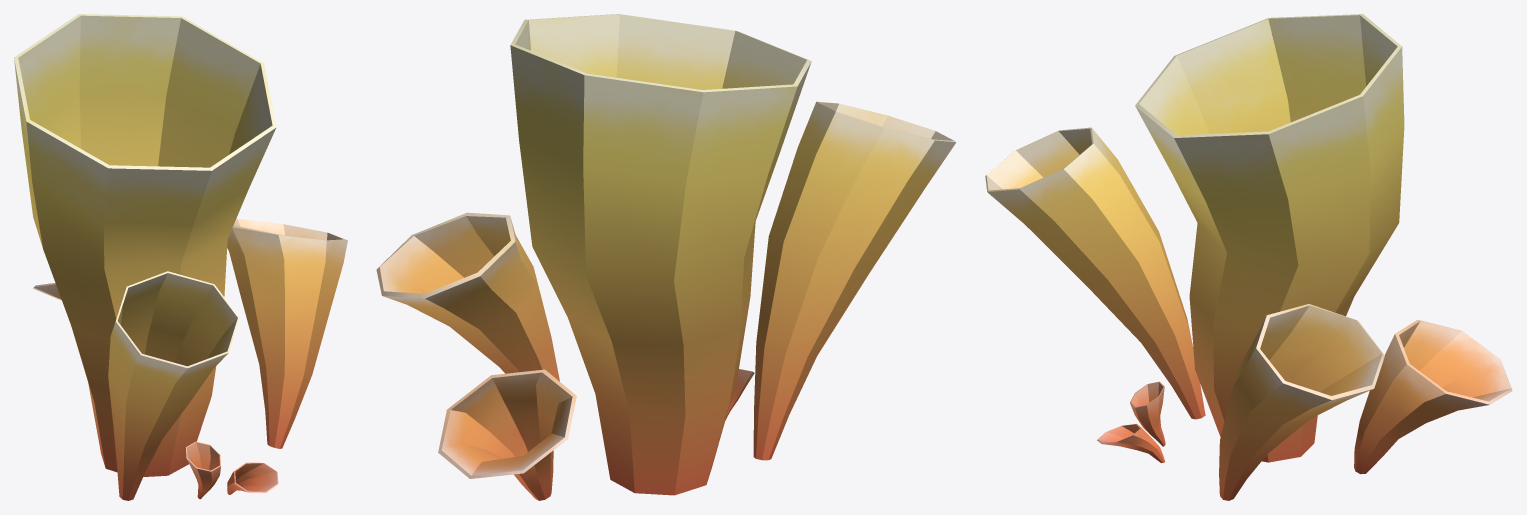
The model's file is mush4.fbx.
3 views of the same model, side by side, from view 1: azimuth 30°, elevation 25°; view 2: azimuth 150°, elevation 25°; view 3: azimuth 270°, elevation 25° (orthographic). The views are drawn at different scales.
Parts seen in each view (by area): view 1: Cube.005.frozen; view 2: Cube.005.frozen; view 3: Cube.005.frozen.
Boxes of the visible parts, x1,y1,x2,y2 form: Cube.005.frozen: (14,14,347,500); Cube.005.frozen: (376,14,956,500); Cube.005.frozen: (985,14,1512,500).
Bounding box in the file's own units: 185 × 202 × 241.
Materials: 1 (1 with a texture image).
